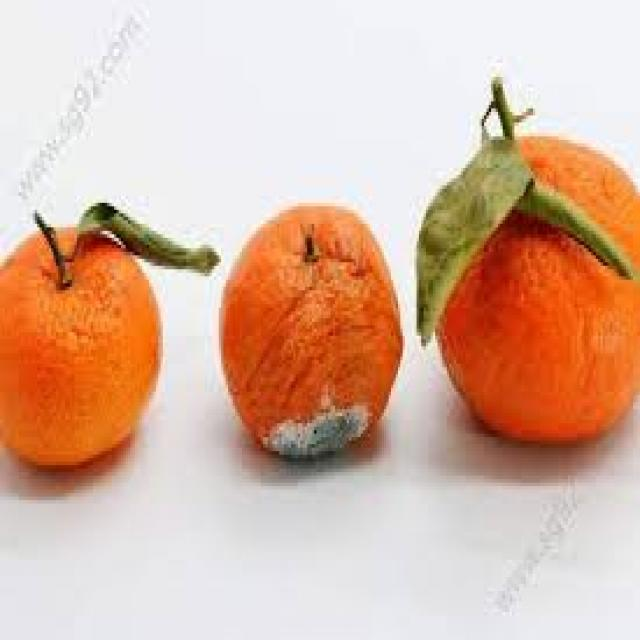organic waste: (433, 130, 638, 444), (216, 203, 402, 458), (0, 220, 161, 465), (414, 136, 528, 346), (32, 200, 218, 290), (517, 178, 633, 280), (482, 77, 528, 147)
